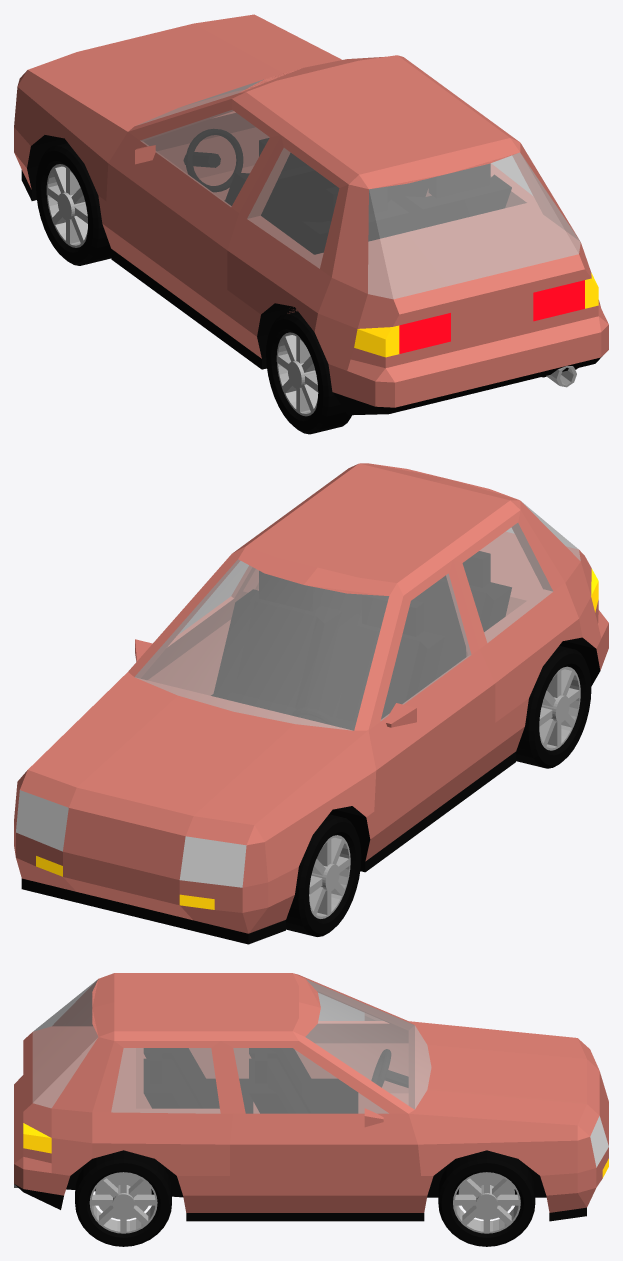
File: Car_modified.fbx
3 renders of one model, top to bottom at view 1: azimuth 30°, elevation 25°; view 2: azimuth 150°, elevation 25°; view 3: azimuth 270°, elevation 25°, orthographic. The views are drawn at different scales.
Parts seen in each view (by area): view 1: Body.001, Glass.002, Door.003, Seat.001, Glass.001, Glass.004, Tire.006, Tire.004, WheelHud.019, WheelHud.015, Wheel.001, WheelHud.021 (+1 smaller); view 2: Body.001, Glass.003, Seat.001, Door.003, Glass.001, Glass.004, Tire.006, Tire.004, WheelHud.019, WheelHud.015, Glass.005, Mirror.001 (+2 smaller); view 3: Body.001, Door.003, Seat.001, Glass.003, Glass.005, Glass.006, Glass.002, Tire.005, Tire.007, WheelHud.016, WheelHud.022, WheelHud.024 (+7 smaller).
Boxes of the visible parts, x1=… form: Body.001: x1=14, y1=14, x2=608, y2=415; Glass.002: x1=368, y1=152, x2=580, y2=299; Door.003: x1=106, y1=99, x2=431, y2=333; Seat.001: x1=224, y1=138, x2=511, y2=254; Glass.001: x1=140, y1=110, x2=269, y2=206; Glass.004: x1=247, y1=148, x2=339, y2=268; Tire.006: x1=266, y1=311, x2=351, y2=434; Tire.004: x1=36, y1=143, x2=111, y2=265; WheelHud.019: x1=278, y1=335, x2=318, y2=413; WheelHud.015: x1=47, y1=166, x2=87, y2=243; Wheel.001: x1=186, y1=129, x2=242, y2=191; WheelHud.021: x1=276, y1=332, x2=317, y2=416; Body.001: x1=14, y1=463, x2=608, y2=944; Glass.003: x1=135, y1=559, x2=388, y2=730; Seat.001: x1=211, y1=551, x2=511, y2=730; Door.003: x1=141, y1=560, x2=495, y2=855; Glass.001: x1=380, y1=573, x2=471, y2=720; Glass.004: x1=462, y1=523, x2=553, y2=642; Tire.006: x1=516, y1=645, x2=591, y2=768; Tire.004: x1=286, y1=814, x2=361, y2=936; WheelHud.019: x1=539, y1=669, x2=579, y2=746; WheelHud.015: x1=309, y1=837, x2=349, y2=914; Glass.005: x1=178, y1=561, x2=248, y2=634; Mirror.001: x1=135, y1=639, x2=416, y2=727; Body.001: x1=14, y1=973, x2=608, y2=1221; Door.003: x1=220, y1=991, x2=420, y2=1212; Seat.001: x1=144, y1=1048, x2=357, y2=1113; Glass.003: x1=305, y1=979, x2=431, y2=1109; Glass.005: x1=233, y1=1048, x2=388, y2=1113; Glass.006: x1=111, y1=1048, x2=220, y2=1113; Glass.002: x1=32, y1=979, x2=97, y2=1107; Tire.005: x1=438, y1=1150, x2=535, y2=1246; Tire.007: x1=75, y1=1150, x2=171, y2=1246; WheelHud.016: x1=453, y1=1172, x2=518, y2=1231; WheelHud.022: x1=91, y1=1174, x2=156, y2=1233; WheelHud.024: x1=89, y1=1172, x2=157, y2=1233.
Size of the model in its own units: 2.05 by 1.71 by 4.75.
